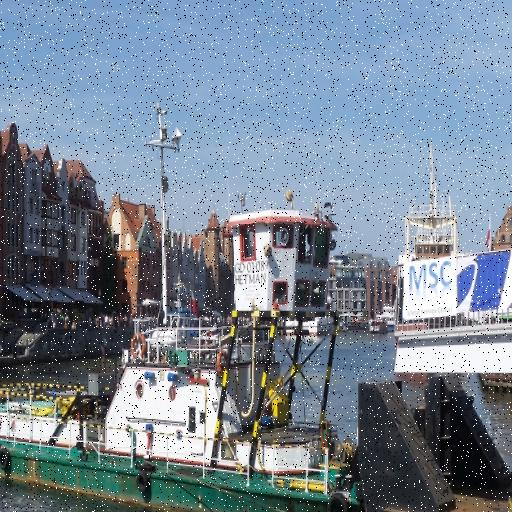tugboat: (1, 189, 441, 512)
